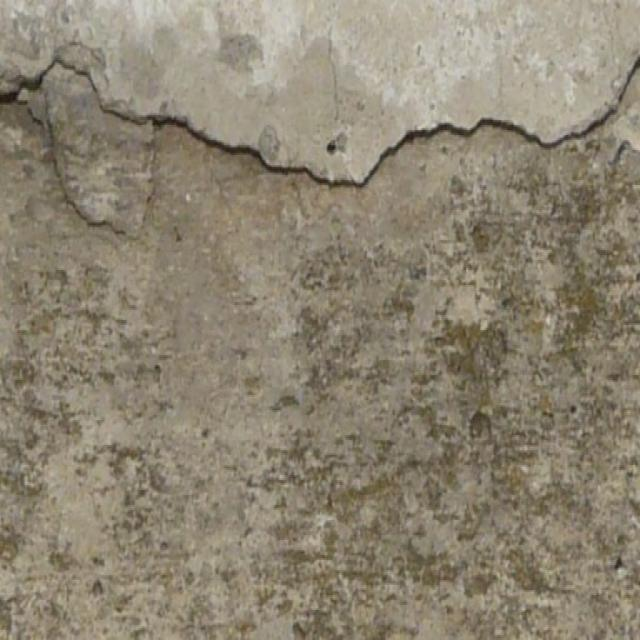Transverse: (241, 29, 640, 230)
Turtle-shell patterned: (0, 61, 225, 262)
